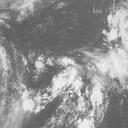cyclone: (51, 51, 114, 106)
